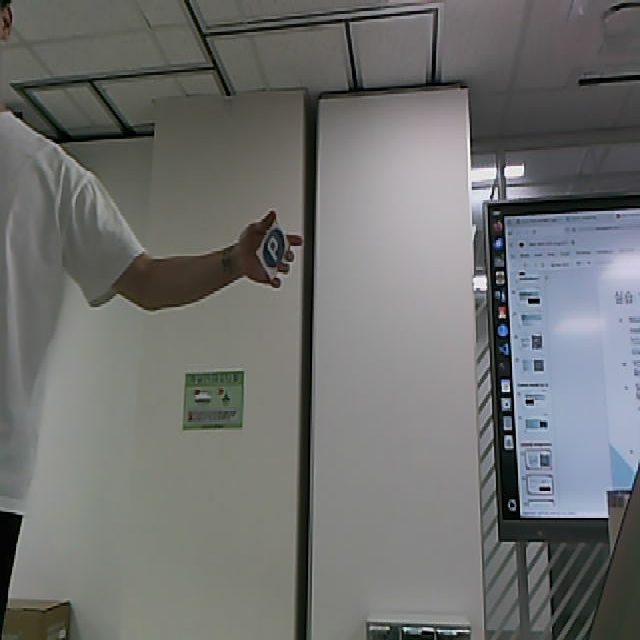parking: (256, 219, 292, 283)
